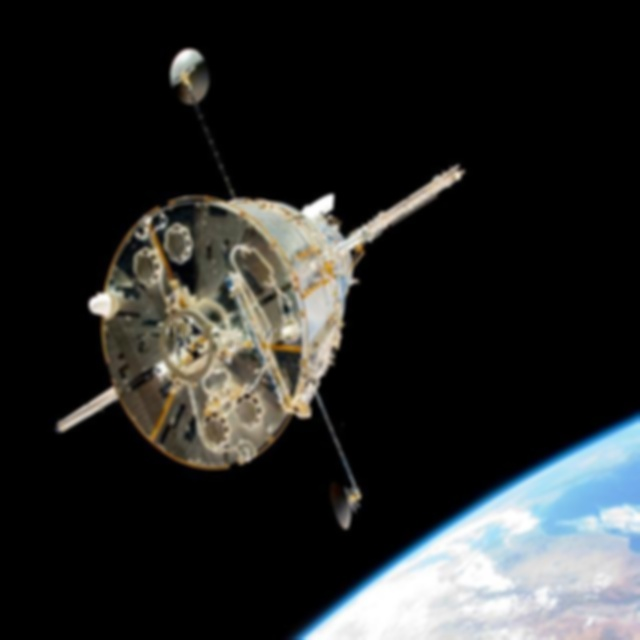medium_debris: (49, 44, 469, 543)
